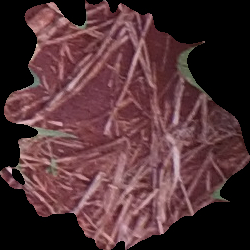soil: (2, 2, 247, 247)
